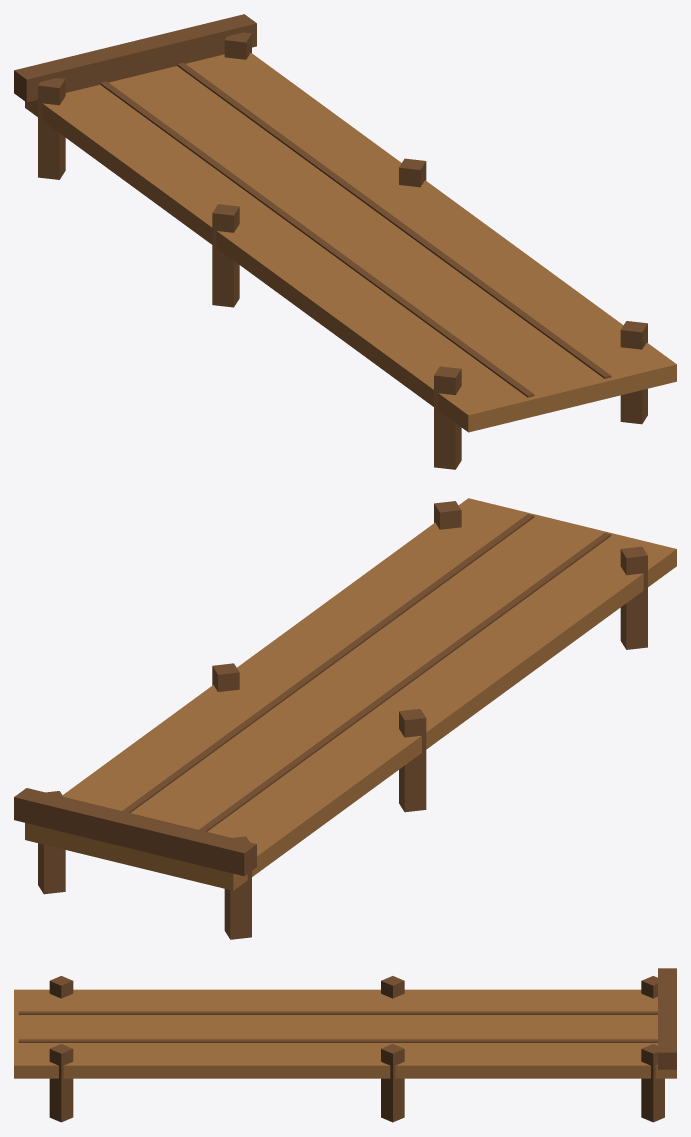
File: trapiche.glb
3 renders of one model, top to bottom at view 1: azimuth 30°, elevation 25°; view 2: azimuth 150°, elevation 25°; view 3: azimuth 270°, elevation 25°, orthographic. The views are drawn at different scales.
Parts seen in each view (by area): view 1: corpo; view 2: corpo; view 3: corpo.
Part boxes in pixels (bbox=[...]): corpo: bbox=[14, 14, 676, 469]; corpo: bbox=[14, 498, 676, 939]; corpo: bbox=[14, 968, 676, 1122].
Bounding box in the file's own units: 0.42 × 0.17 × 1.4.
